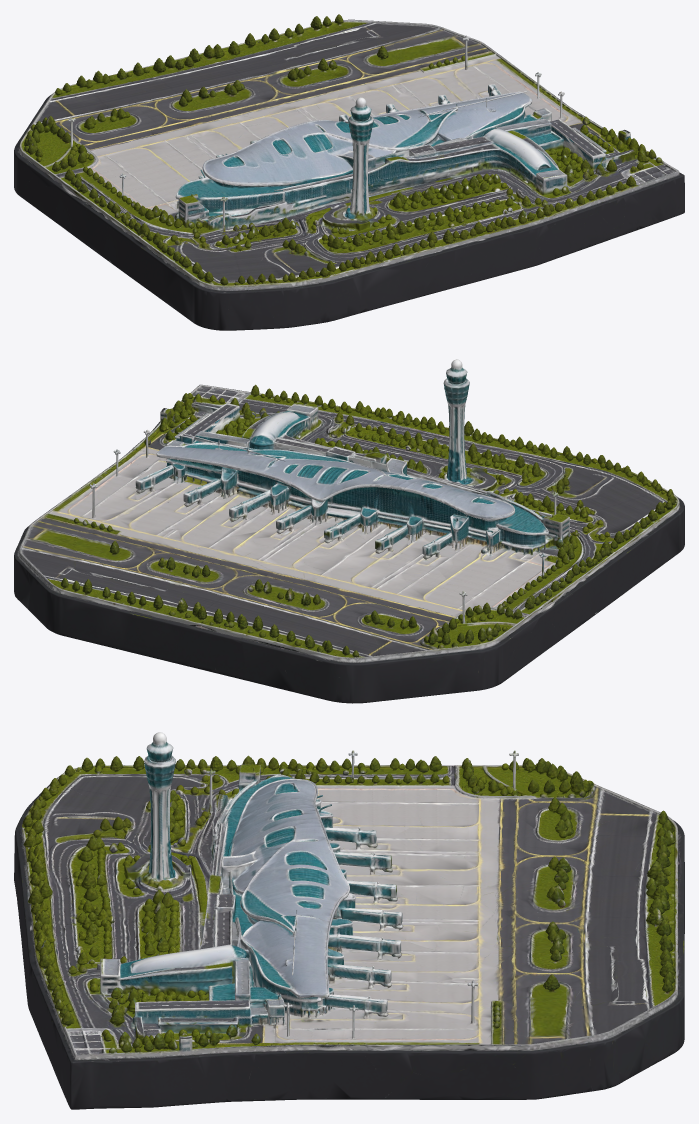
Rendered from model-icn.glb.
3 views of the same model, one above another, from view 1: azimuth 30°, elevation 25°; view 2: azimuth 150°, elevation 25°; view 3: azimuth 270°, elevation 25° (orthographic). The views are drawn at different scales.
Size of the model in its own units: 1.9 by 0.603 by 1.83.
1 material, 1 textured.
